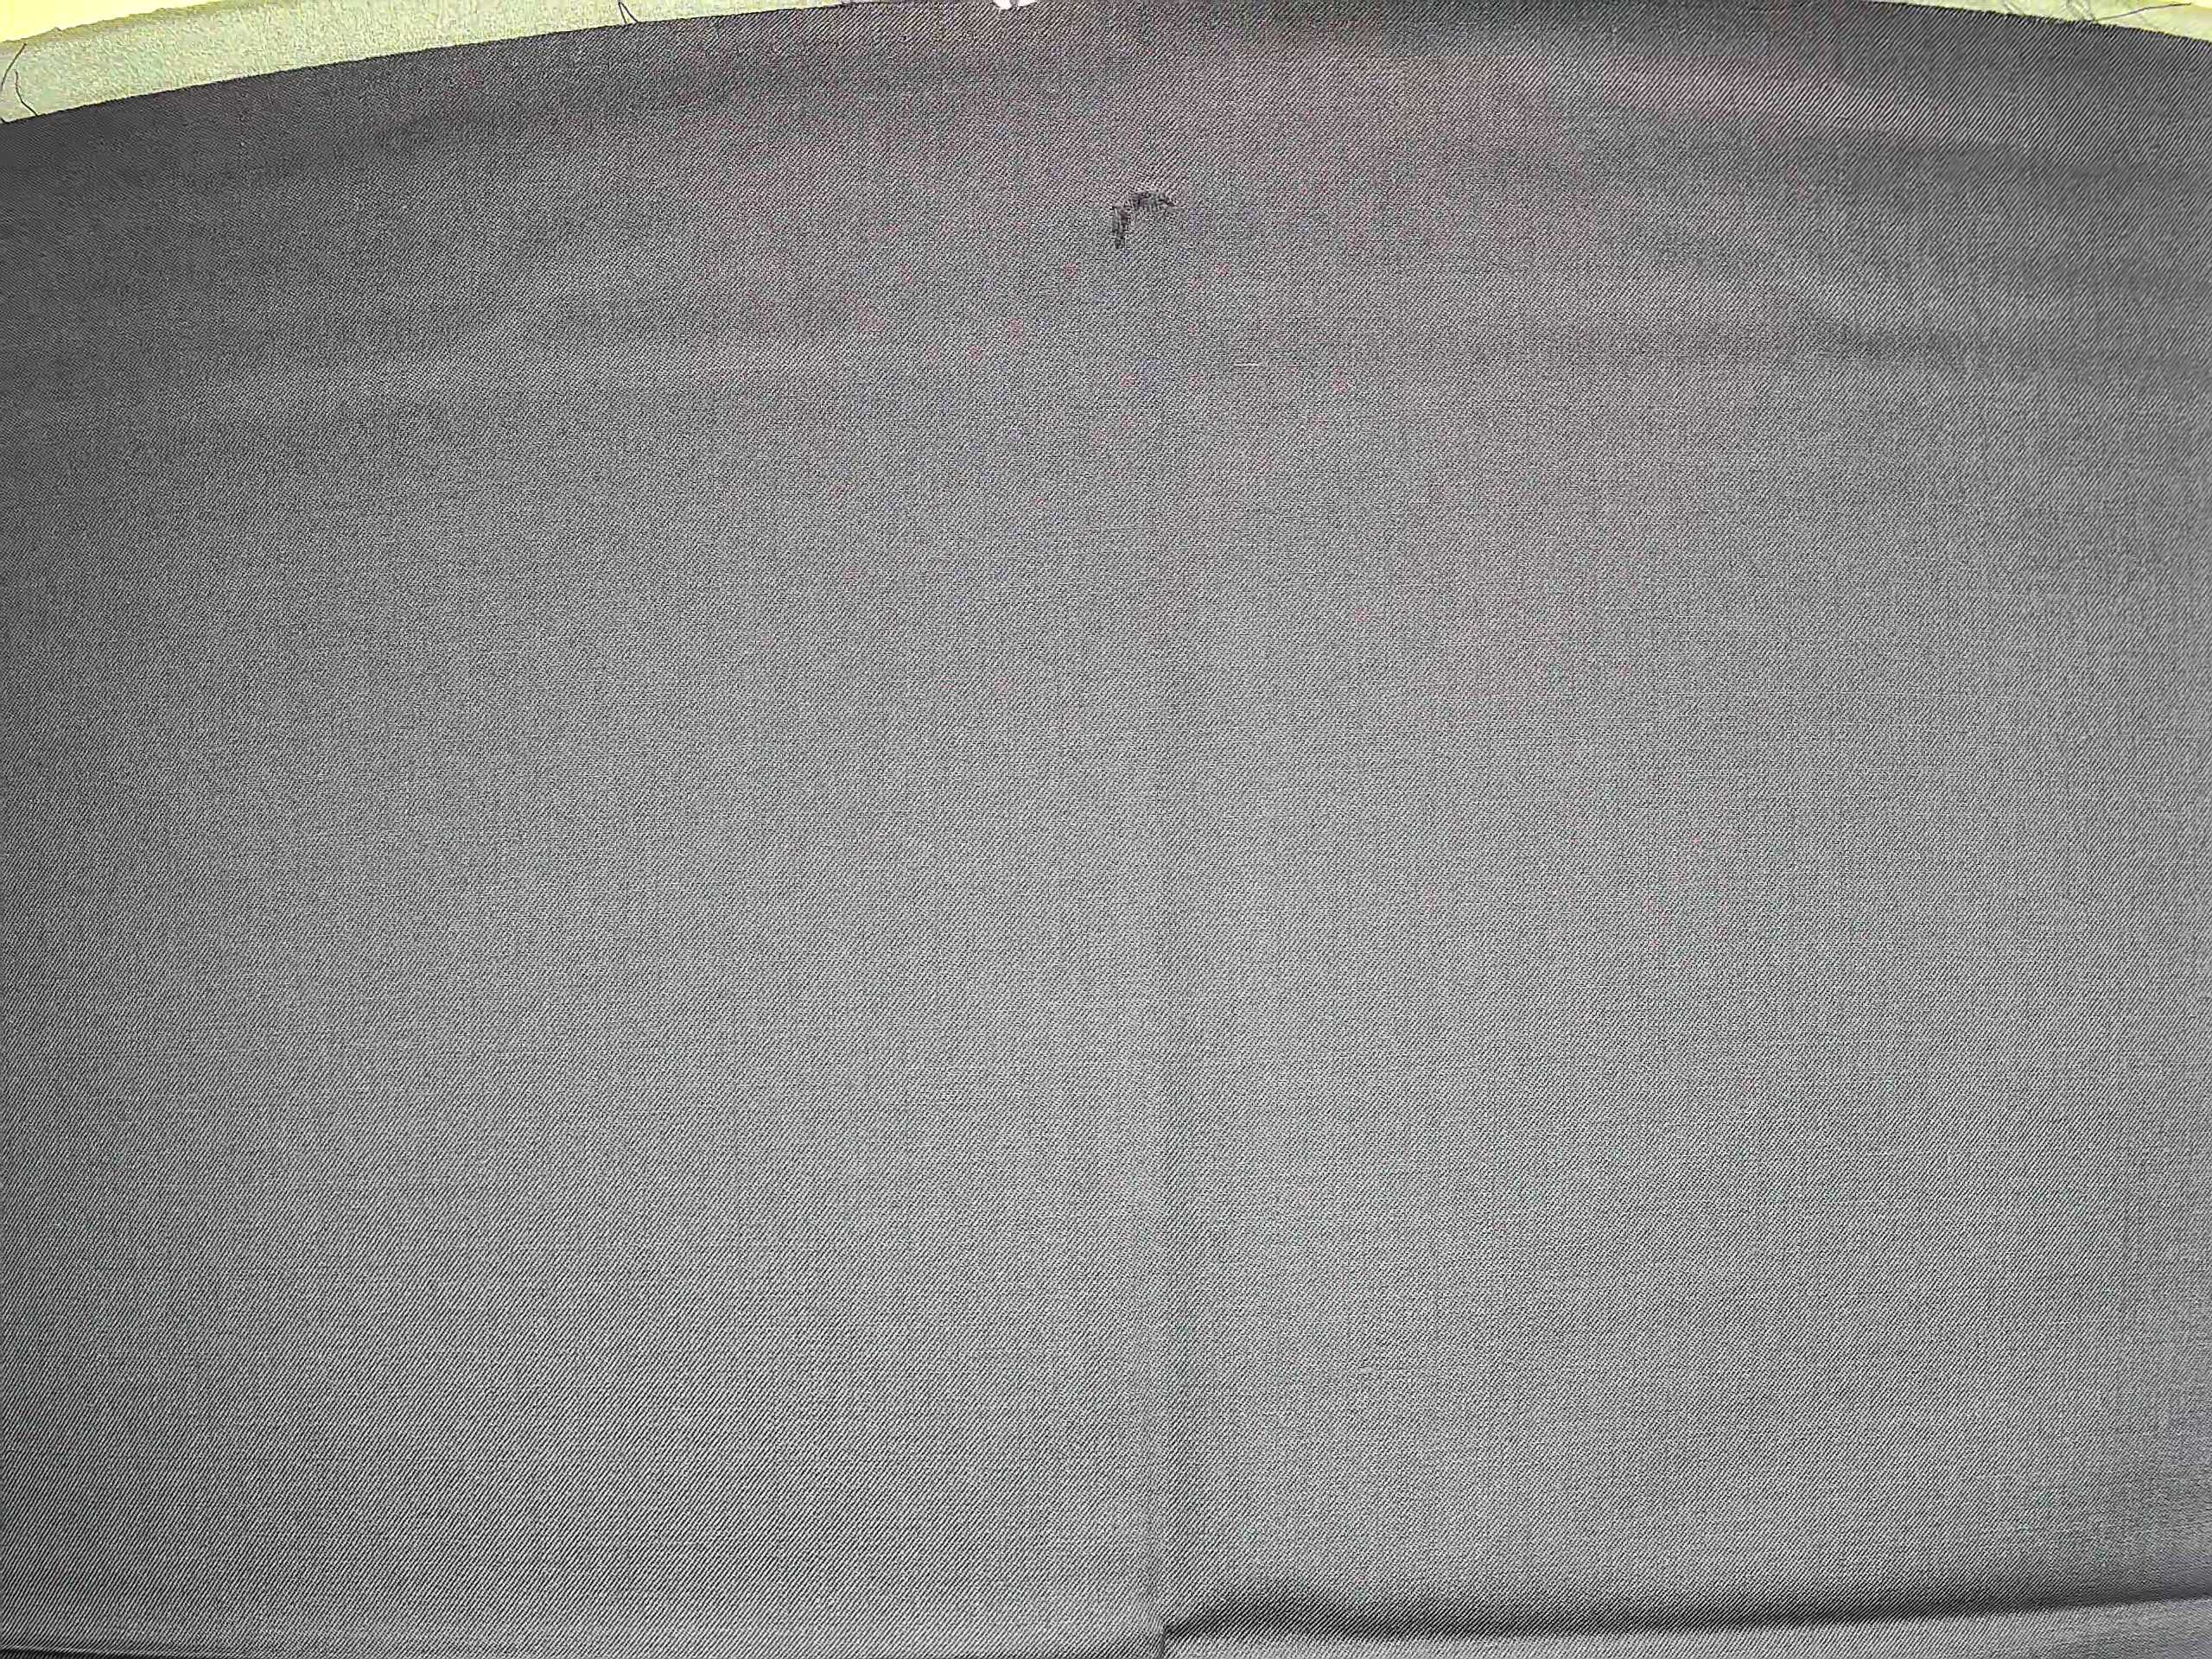rubbing-hole: (1094, 166, 1200, 267)
